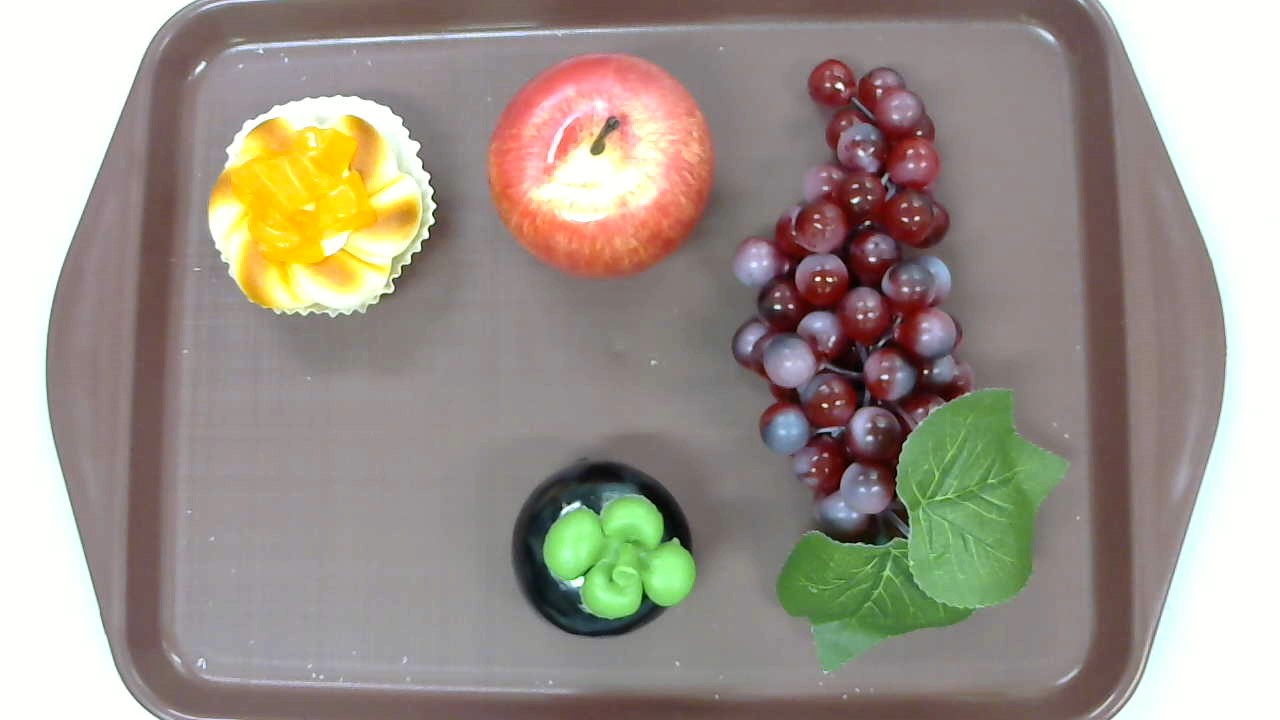grape: (731, 59, 1070, 680)
mango tart: (207, 94, 437, 322)
mangosteen: (512, 455, 698, 638)
red apple: (486, 52, 716, 284)
